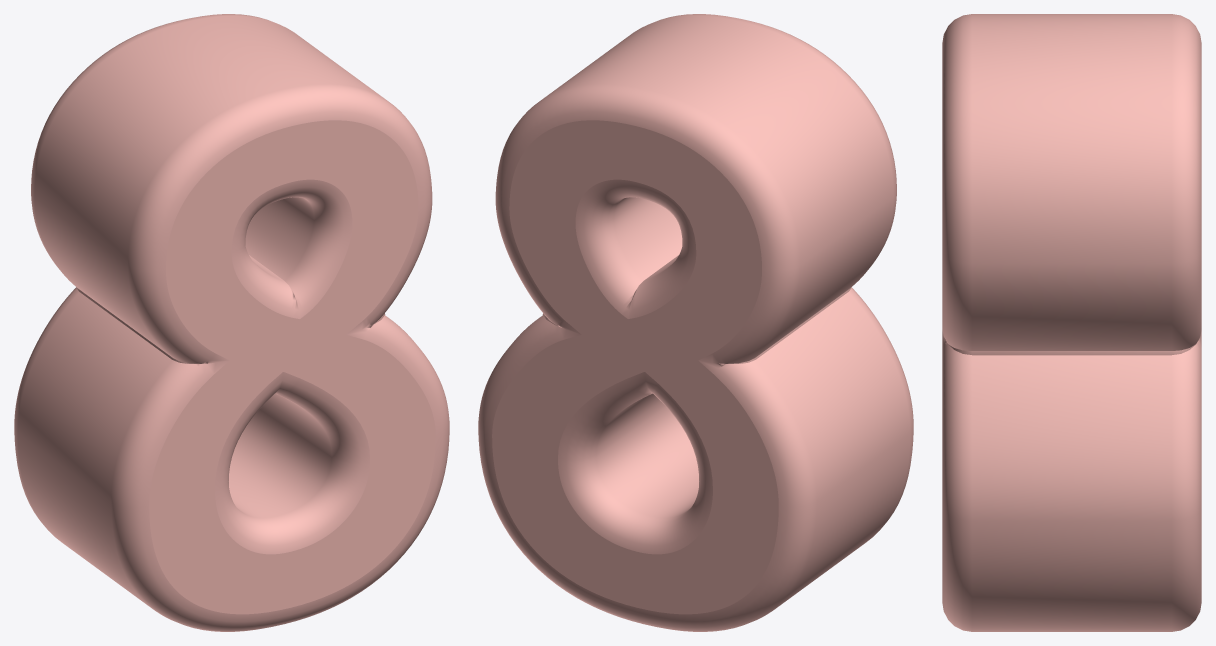
3 renders of one model, left to right at view 1: azimuth 30°, elevation 25°; view 2: azimuth 150°, elevation 25°; view 3: azimuth 270°, elevation 25°, orthographic. The views are drawn at different scales.
Parts seen in each view (by area): view 1: Text; view 2: Text; view 3: Text.
Boxes of the visible parts, x1,y1,x2,y2 form: Text: [14, 14, 449, 631]; Text: [478, 14, 913, 631]; Text: [942, 14, 1201, 631].
Bounding box in the file's own units: 41.54 × 63.02 × 26.
